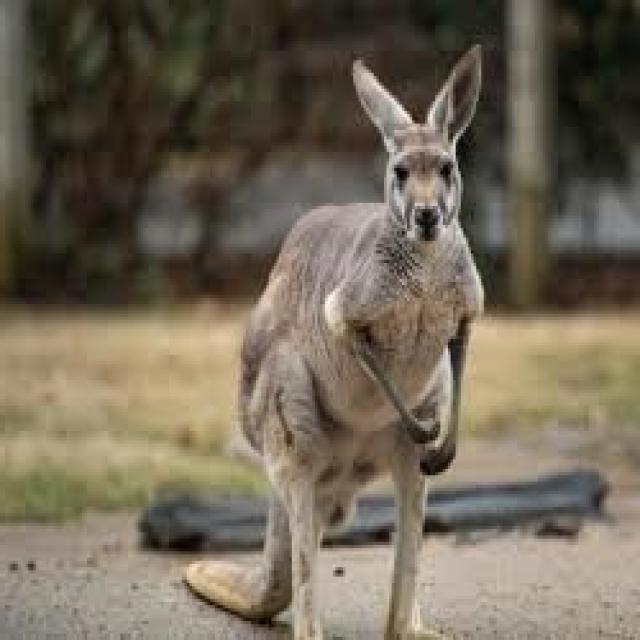kangaroo: (187, 44, 484, 637)
